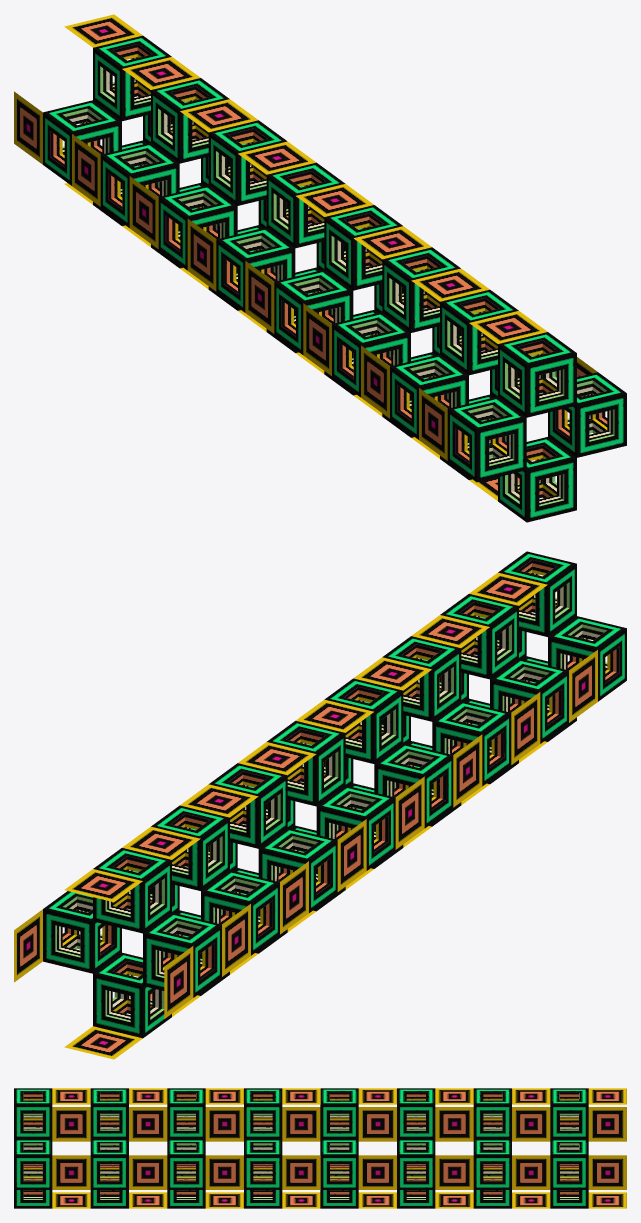
File: hx_a_squares_201A.glb
The picture shows the model from 3 angles, top to bottom: view 1: azimuth 30°, elevation 25°; view 2: azimuth 150°, elevation 25°; view 3: azimuth 270°, elevation 25°; orthographic projection. The views are drawn at different scales.
Parts seen in each view (by area): view 1: h_cube-L (×18), flat_quad (×16); view 2: h_cube-L (×18), flat_quad (×18); view 3: h_cube-L (×24), flat_quad (×32).
Boxes of the visible parts, x1,y1,x2,y2 form: h_cube-L (×18): [43, 35, 626, 522]; flat_quad (×16): [14, 14, 547, 460]; h_cube-L (×18): [43, 551, 626, 1038]; flat_quad (×18): [14, 572, 597, 1059]; h_cube-L (×24): [14, 1088, 588, 1208]; flat_quad (×32): [52, 1088, 626, 1208].
Bounding box in the file's own units: 15 × 15 × 80.
1 material, 1 textured.
